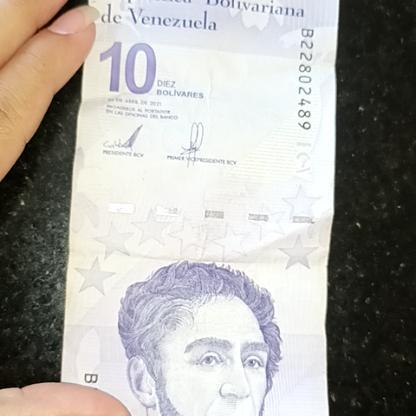ten-front-vef: (62, 0, 338, 416)
